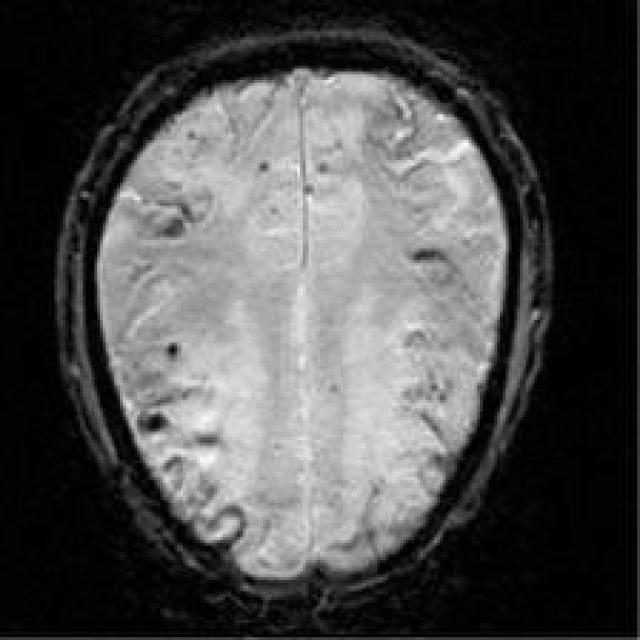no_tumor: (46, 13, 562, 612)
